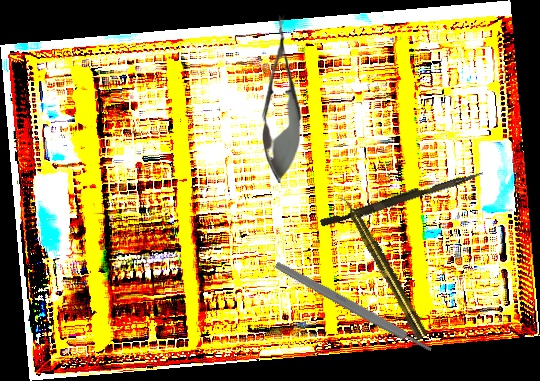Handpiece: (336, 190, 431, 343)
Micro Scissor: (260, 15, 302, 183)
Pusher: (319, 164, 485, 232)
Scalpel Handle: (273, 259, 434, 356)
